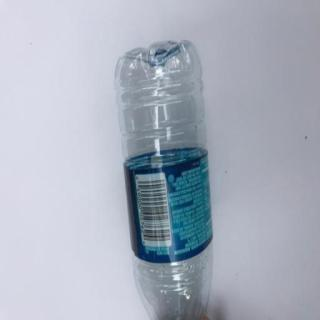Plastic-bottle: (113, 39, 217, 320)
